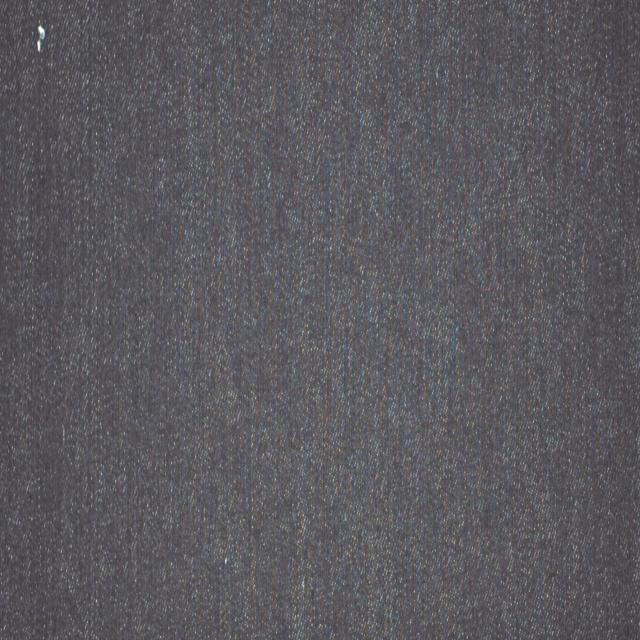Knot: (35, 23, 45, 52)
